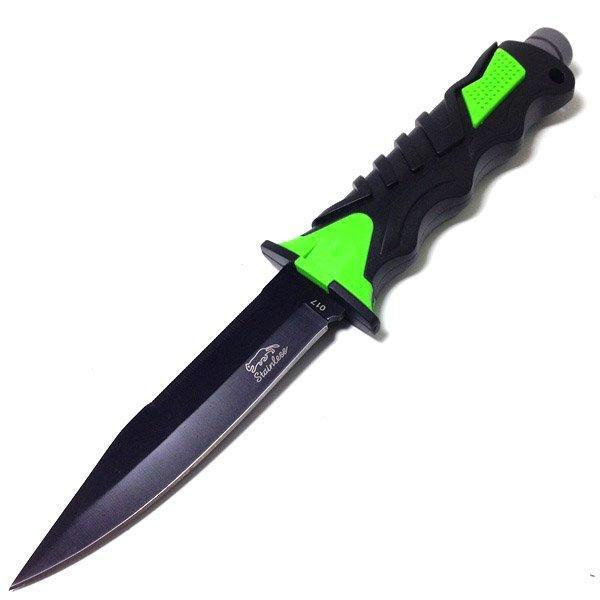faca: (10, 29, 574, 589)
